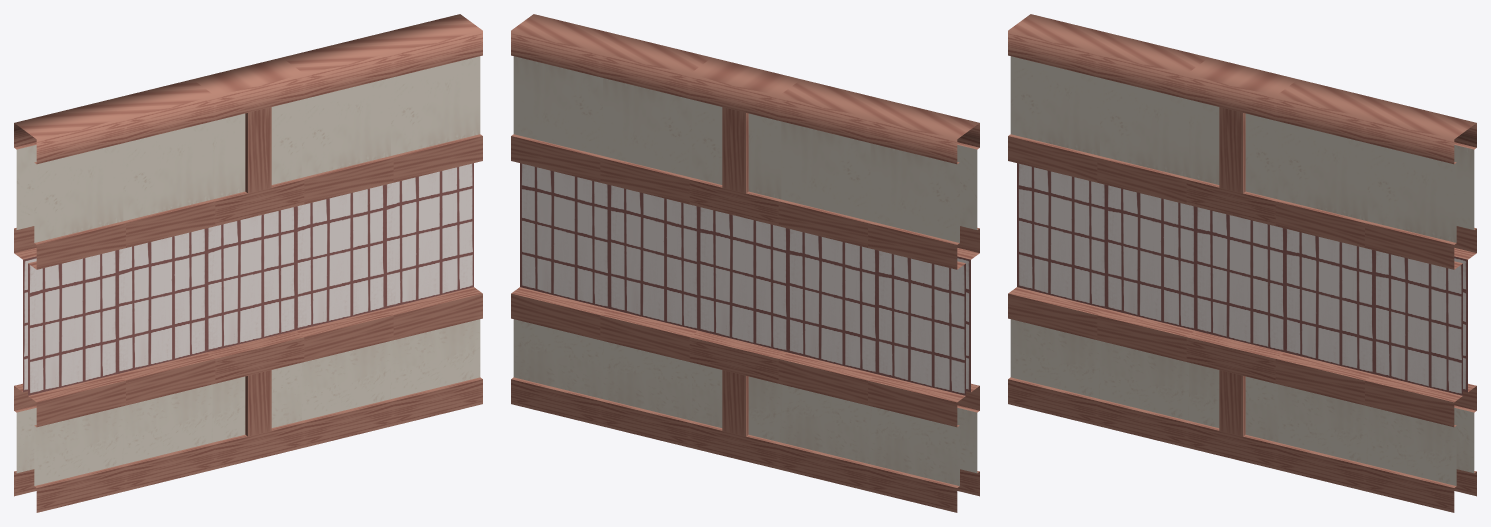
File: paret_finestra_x5.fbx
3 views of the same model, side by side, from view 1: azimuth 30°, elevation 25°; view 2: azimuth 150°, elevation 25°; view 3: azimuth 330°, elevation 25° (orthographic).
Parts seen in each view (by area): view 1: Pared_Ventana_Centro.001; view 2: Pared_Ventana_Centro.001; view 3: Pared_Ventana_Centro.001.
Part boxes in pixels (left/top/right/bottom): Pared_Ventana_Centro.001: left=14, top=14, right=482, bottom=512; Pared_Ventana_Centro.001: left=511, top=14, right=979, bottom=512; Pared_Ventana_Centro.001: left=1008, top=14, right=1476, bottom=512.
Bounding box in the file's own units: 500 × 400 × 44.
